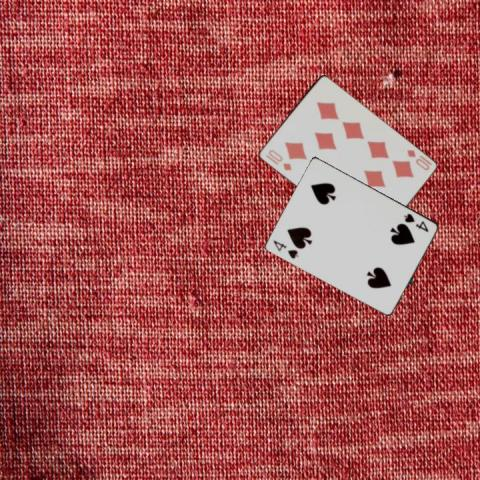10d: (265, 147, 293, 172), (403, 147, 431, 172)
4s: (270, 237, 300, 260), (402, 210, 430, 233)
